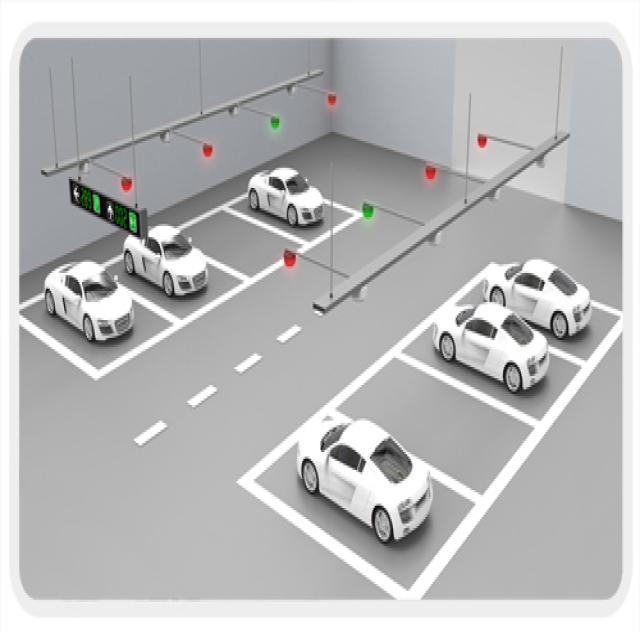libre: (341, 355, 530, 491), (187, 206, 302, 277)
ocupado: (264, 401, 469, 601), (415, 246, 609, 412), (23, 251, 151, 369), (103, 211, 236, 320), (234, 157, 355, 241)
